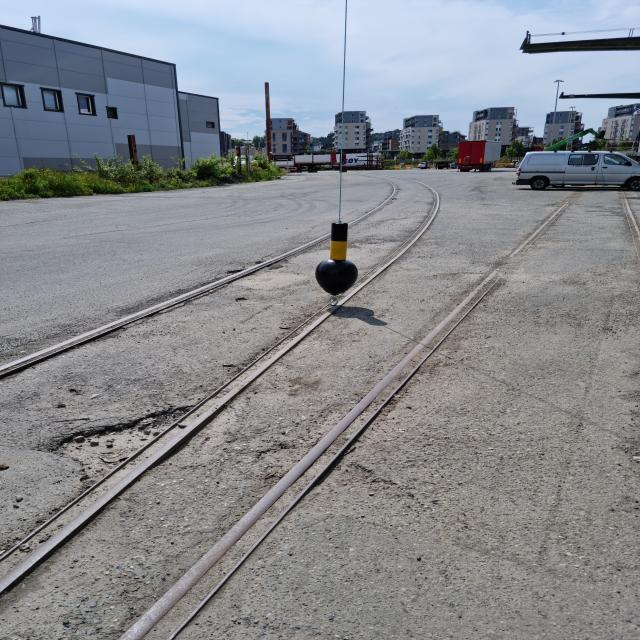east: (316, 223, 359, 294)
